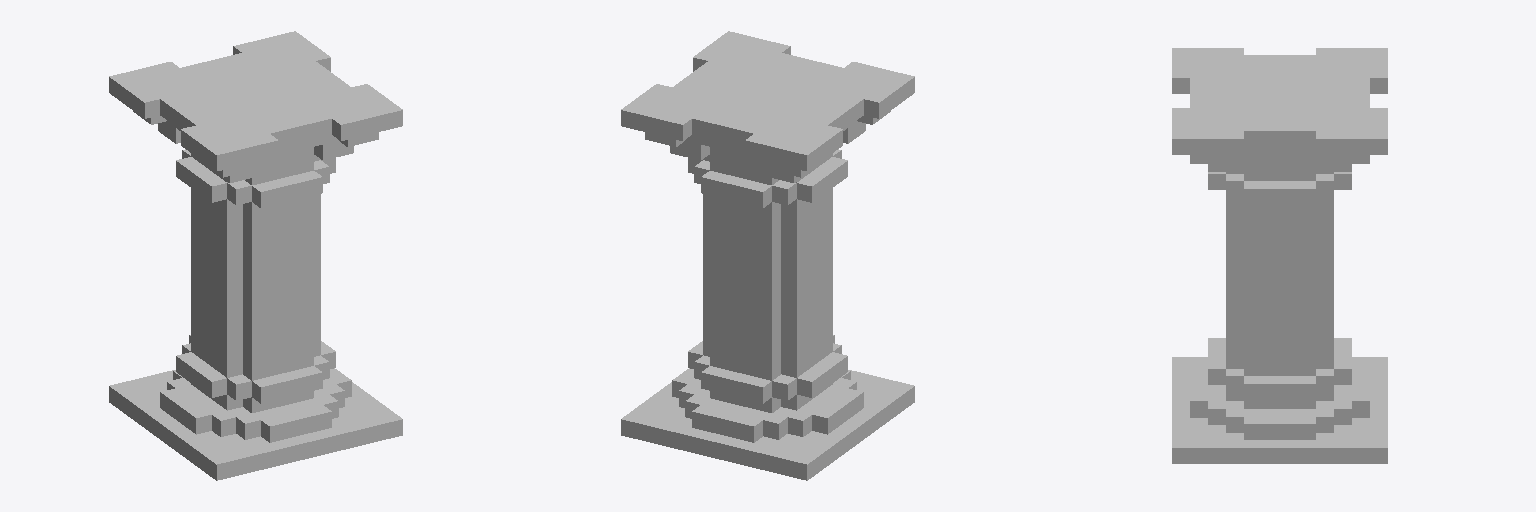
The model's file is pedestal.obj.
3 renders of one model, left to right at view 1: azimuth 30°, elevation 25°; view 2: azimuth 150°, elevation 25°; view 3: azimuth 270°, elevation 25°, orthographic.
Parts seen in each view (by area): view 1: object 1; view 2: object 1; view 3: object 1.
Boxes of the visible parts, box(x1,y1,x2,y2) form: object 1: box(109, 31, 402, 480); object 1: box(621, 31, 914, 480); object 1: box(1172, 48, 1387, 463).
Size of the model in its own units: 1.2 by 2 by 1.2.